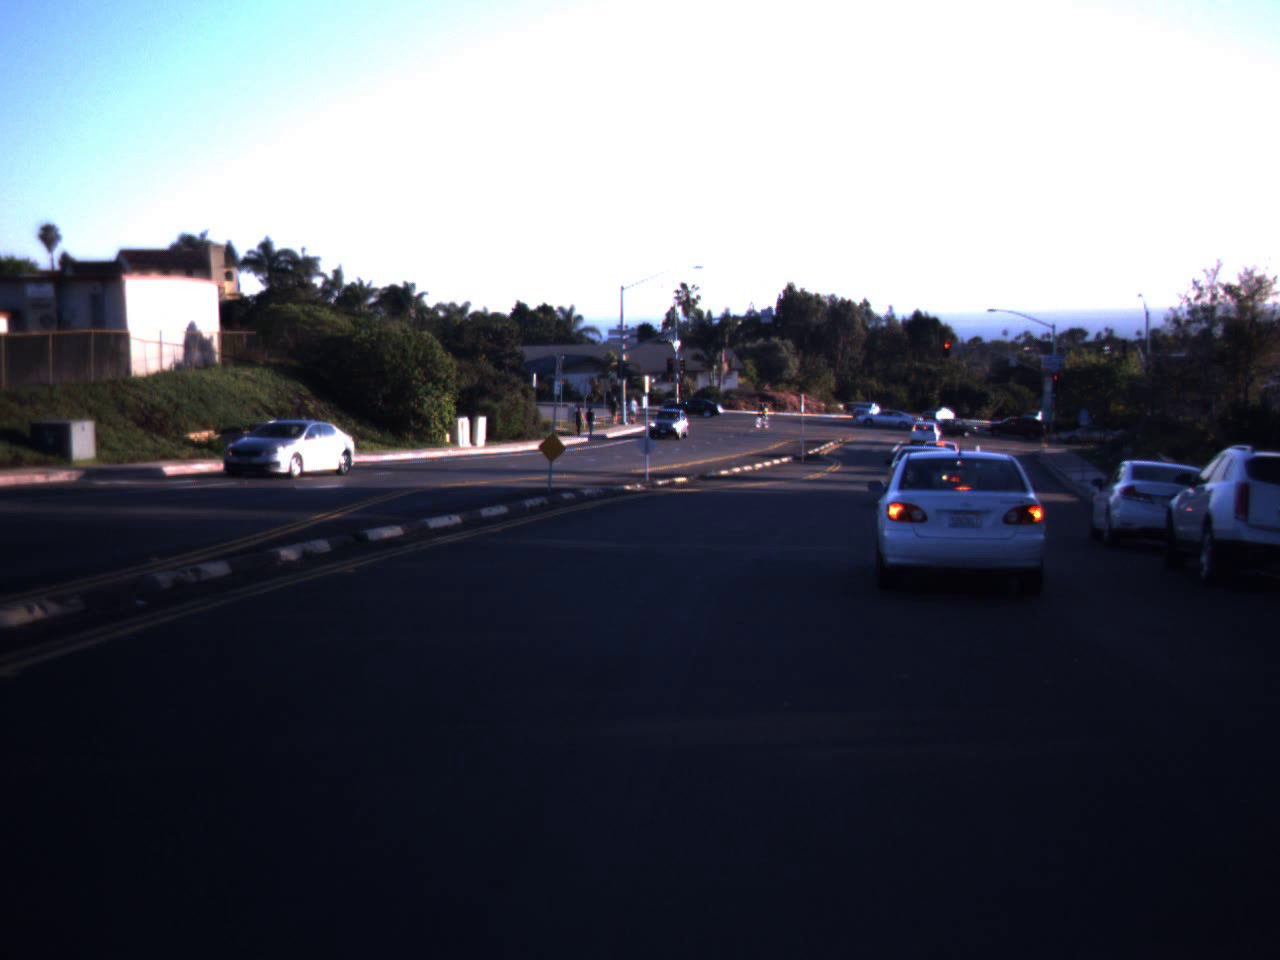stop: (1049, 374, 1061, 392)
